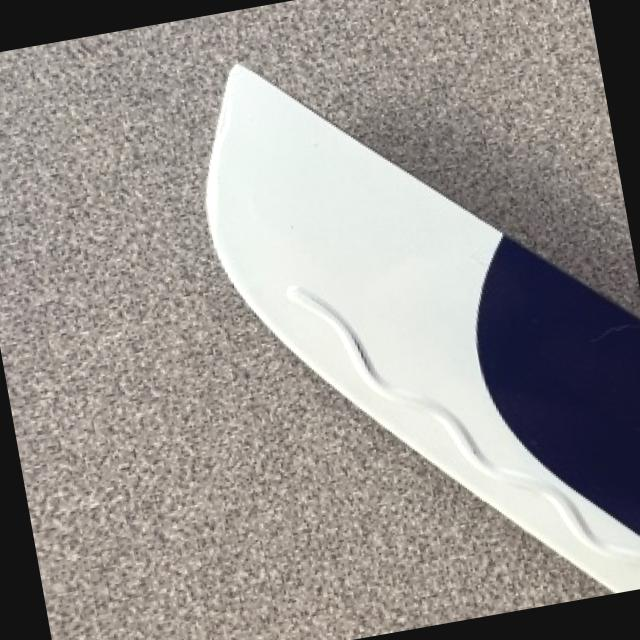healthy: (207, 62, 640, 590)
